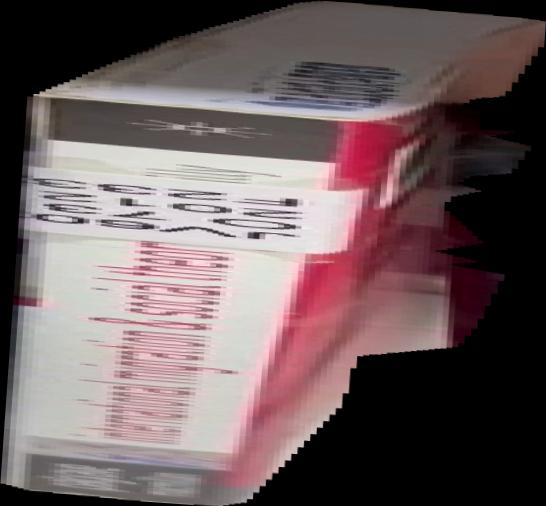reverse: (1, 1, 546, 506)
